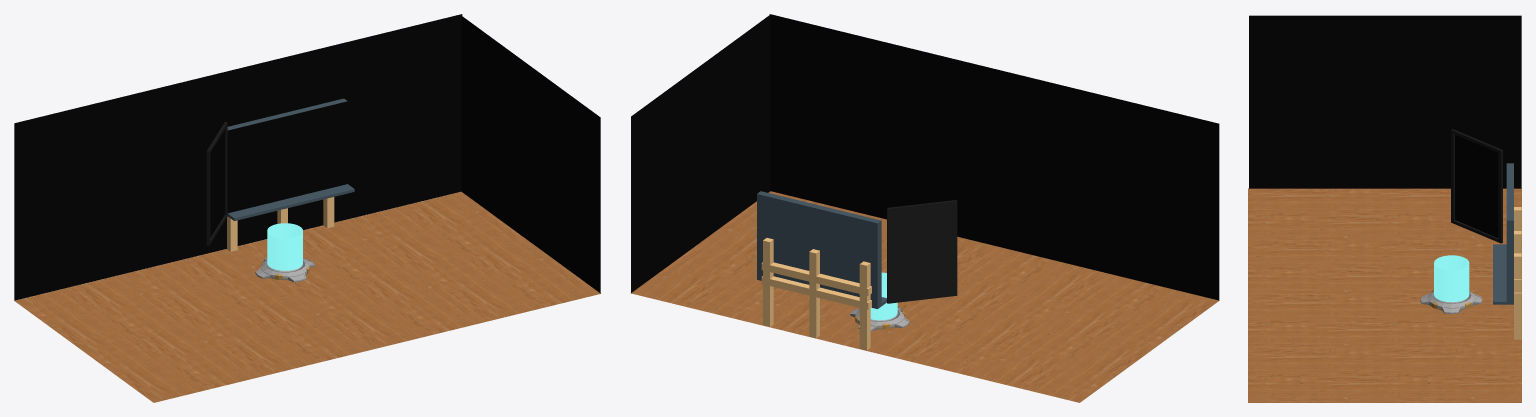
Rendered from billBox.glb.
3 renders of one model, left to right at view 1: azimuth 30°, elevation 25°; view 2: azimuth 150°, elevation 25°; view 3: azimuth 270°, elevation 25°, orthographic. The views are drawn at different scales.
Visible parts, largest first — view 1: backwall, floor, rightwall, billboard.001, billboard, Cylinder, billboard.002, sidescreenScreen, Props_Base; view 2: frontwall, floor, rightwall, billboard, sidescreenScreen, Props_Base, Cylinder; view 3: floor, leftwall, billboard.002, billboard, Cylinder, sidescreenScreen, Props_Base.
Boxes of the visible parts, bbox=[...] form: backwall: bbox=[14, 14, 462, 300]; floor: bbox=[14, 191, 601, 402]; rightwall: bbox=[461, 16, 600, 293]; billboard.001: bbox=[227, 101, 347, 213]; billboard: bbox=[227, 98, 354, 251]; Cylinder: bbox=[267, 223, 302, 270]; billboard.002: bbox=[210, 130, 224, 236]; sidescreenScreen: bbox=[206, 121, 227, 245]; Props_Base: bbox=[255, 258, 314, 282]; frontwall: bbox=[769, 14, 1219, 300]; floor: bbox=[630, 191, 1219, 402]; rightwall: bbox=[631, 15, 770, 292]; billboard: bbox=[757, 191, 886, 350]; sidescreenScreen: bbox=[887, 200, 957, 303]; Props_Base: bbox=[850, 307, 909, 331]; Cylinder: bbox=[870, 272, 897, 320]; floor: bbox=[1248, 188, 1521, 402]; leftwall: bbox=[1249, 15, 1521, 188]; billboard.002: bbox=[1455, 134, 1498, 237]; billboard: bbox=[1493, 163, 1521, 339]; Cylinder: bbox=[1434, 255, 1469, 301]; sidescreenScreen: bbox=[1451, 129, 1502, 243]; Props_Base: bbox=[1420, 290, 1482, 313].
Size of the model in its own units: 19.05 by 7.29 by 10.28.
Materials: 10 (1 with a texture image).
